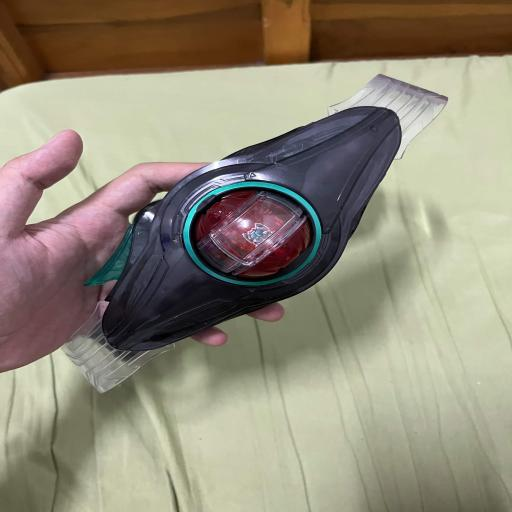zeztzdriver: (63, 75, 447, 392)
